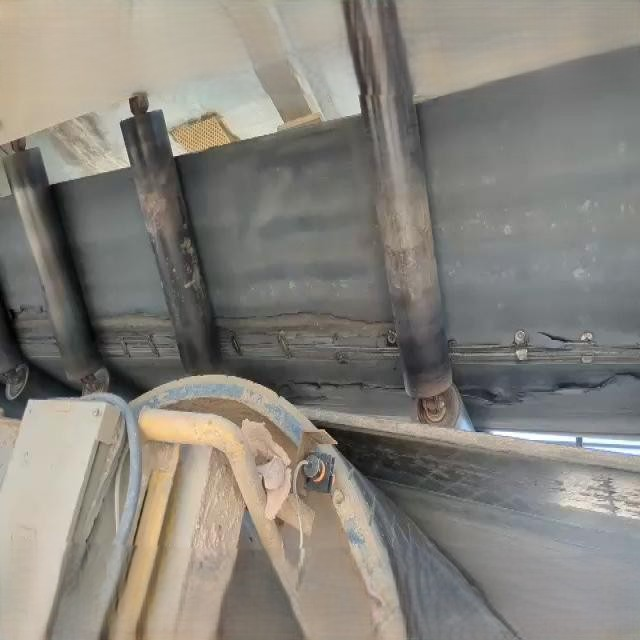Tear: (443, 329, 640, 411), (210, 304, 414, 372), (79, 306, 181, 358), (4, 296, 67, 357), (536, 324, 600, 348)
